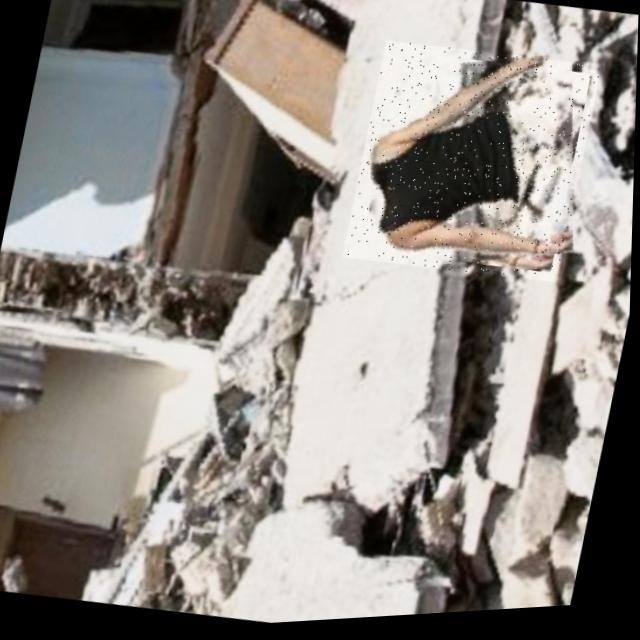Person in Rubble: (343, 34, 604, 299)
